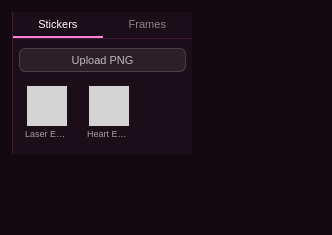
DecoratePanel › renders thickness slider below active frame thumbnail in Frames tab
Click the button "Frames" at [147, 25], box [102,12,192,38]
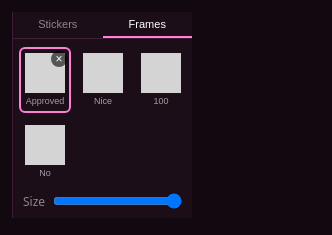
Result: the slider labelled "Size" is shown at [53,193,182,209]
